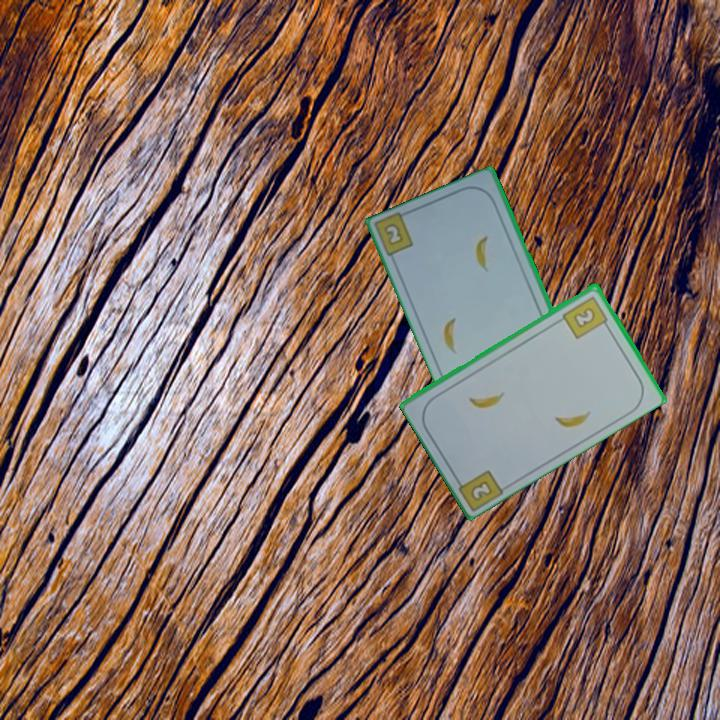2b: (559, 292, 612, 341), (451, 466, 507, 512), (380, 220, 407, 249)
